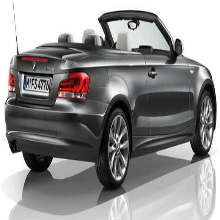no damage: (5, 11, 217, 190)
